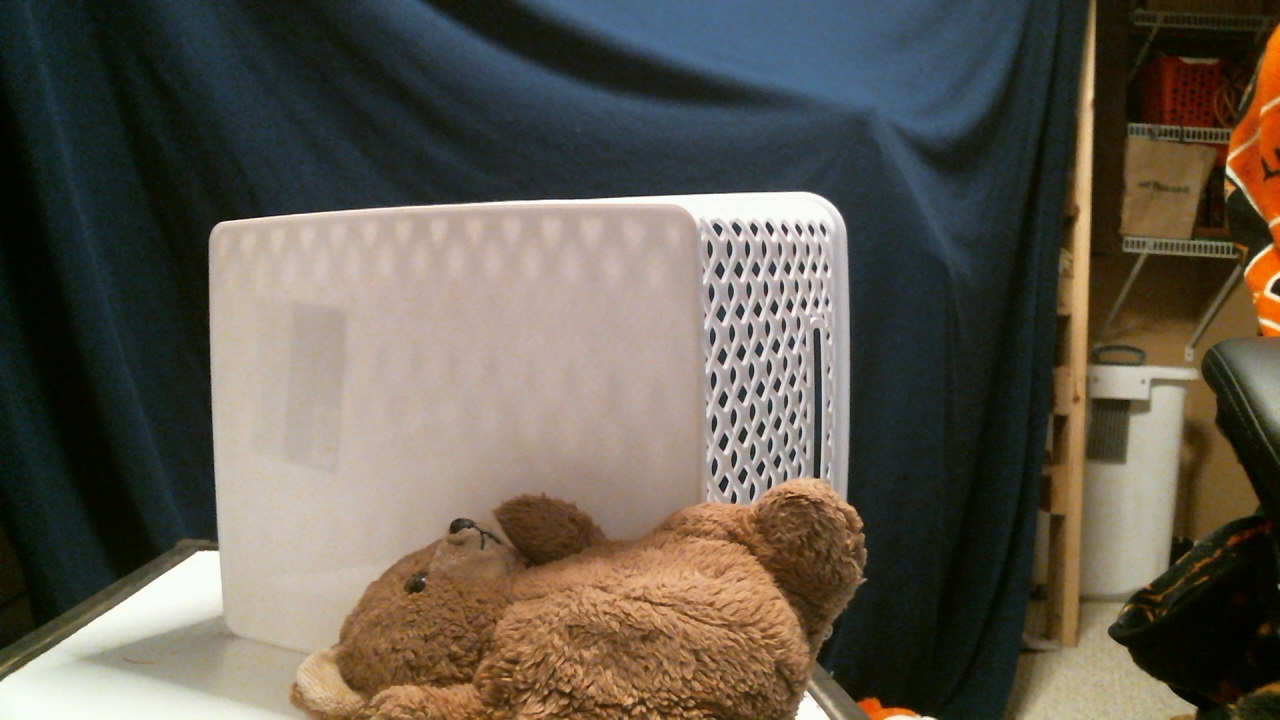Little_Mister_Bear: (409, 524, 524, 603)
